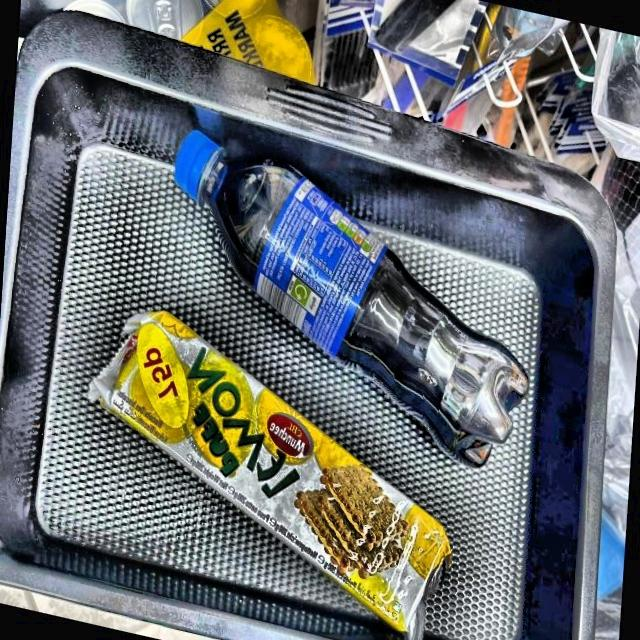lemon puff: (89, 312, 449, 622)
pepsi-bottle: (172, 129, 538, 467)
